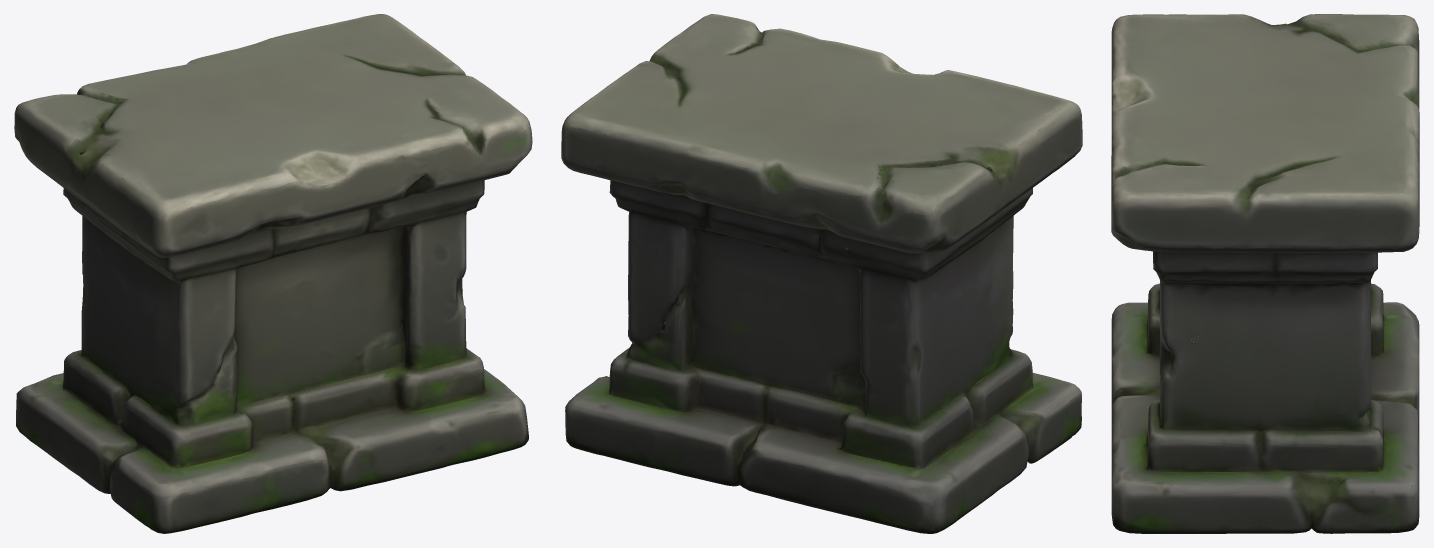
The model's file is crypt_StoneAltar2.glb.
The picture shows the model from 3 angles, left to right: view 1: azimuth 30°, elevation 25°; view 2: azimuth 150°, elevation 25°; view 3: azimuth 270°, elevation 25°; orthographic projection. The views are drawn at different scales.
Visible parts, largest first — view 1: world; view 2: world; view 3: world.
Part boxes in pixels (x1=…): world: x1=14, y1=14, x2=532, y2=533; world: x1=561, y1=14, x2=1082, y2=533; world: x1=1111, y1=14, x2=1419, y2=533.
Size of the model in its own units: 1 by 0.8422 by 0.6912.
Materials: 1 (1 with a texture image).
